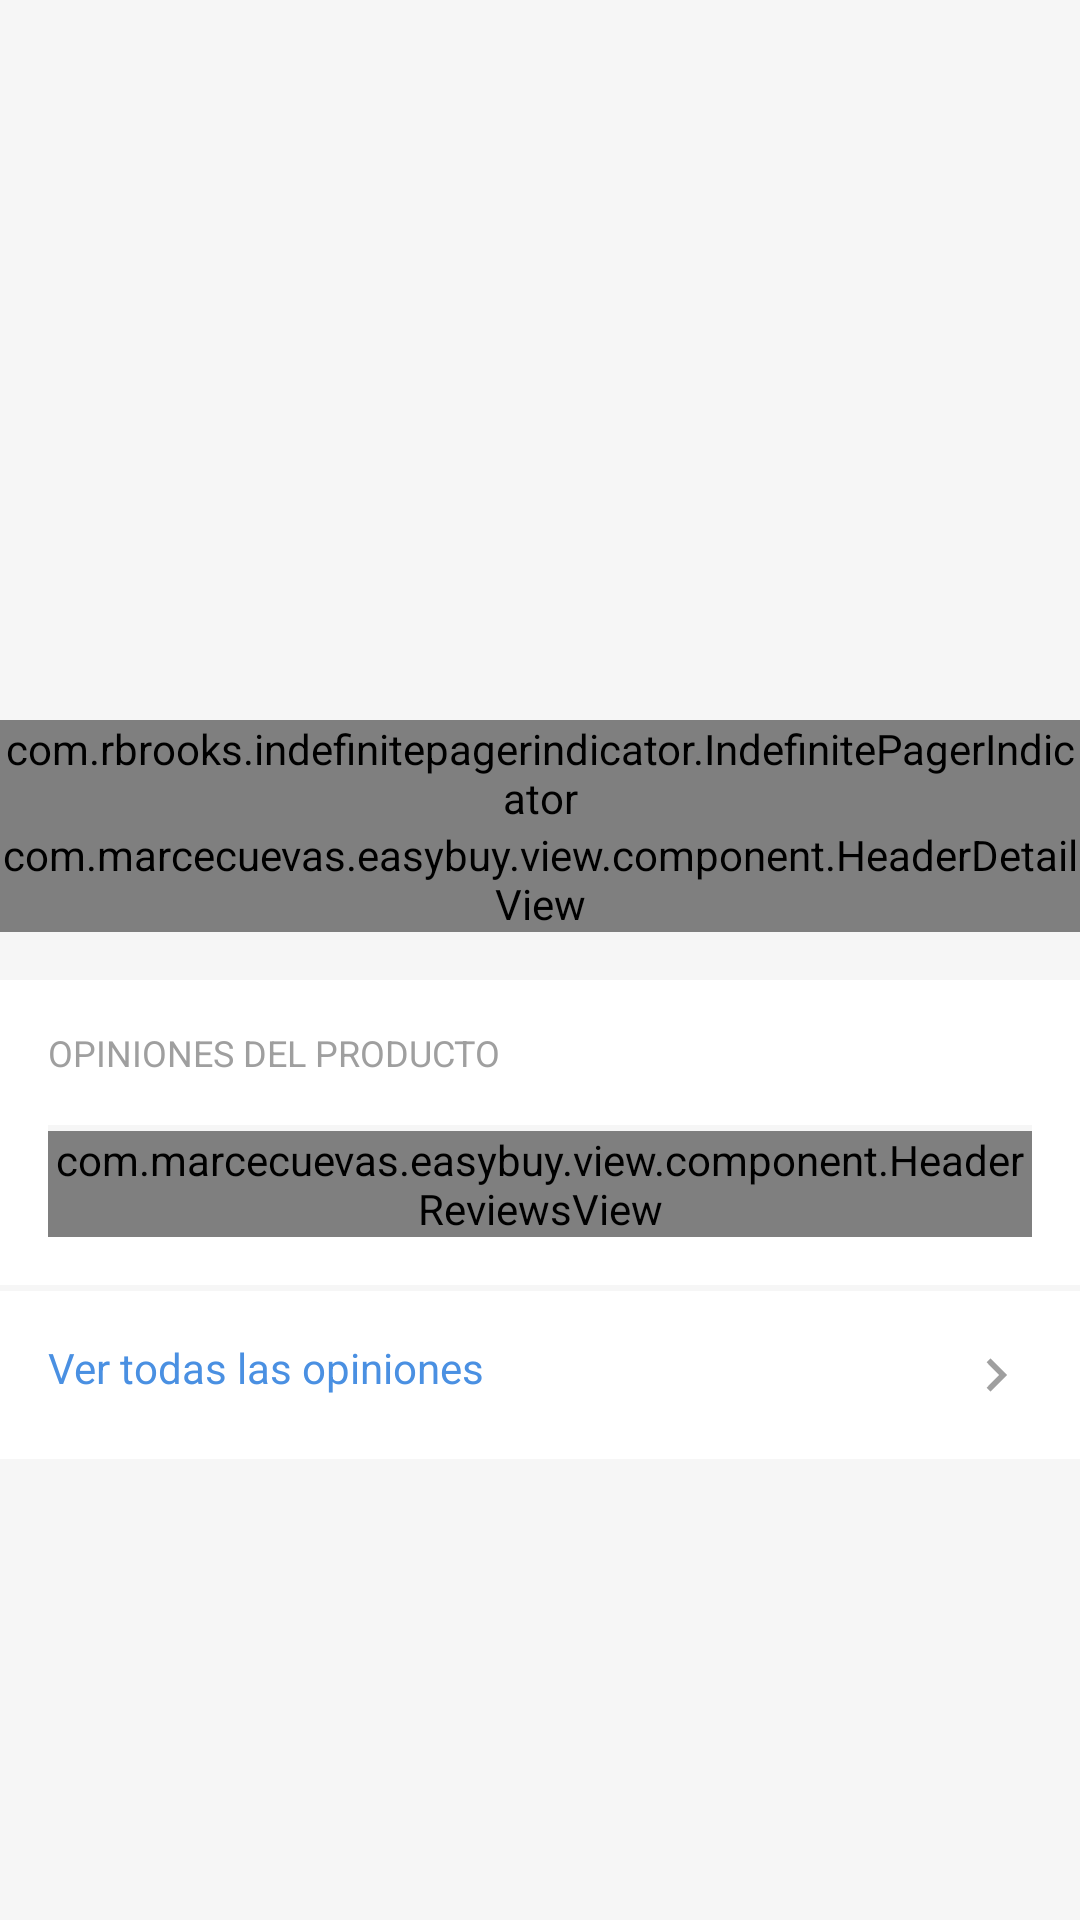

Icon click points for this 1080 × 1920 phone screenshot, format [x,y]:
arrow right: [997,1375]
